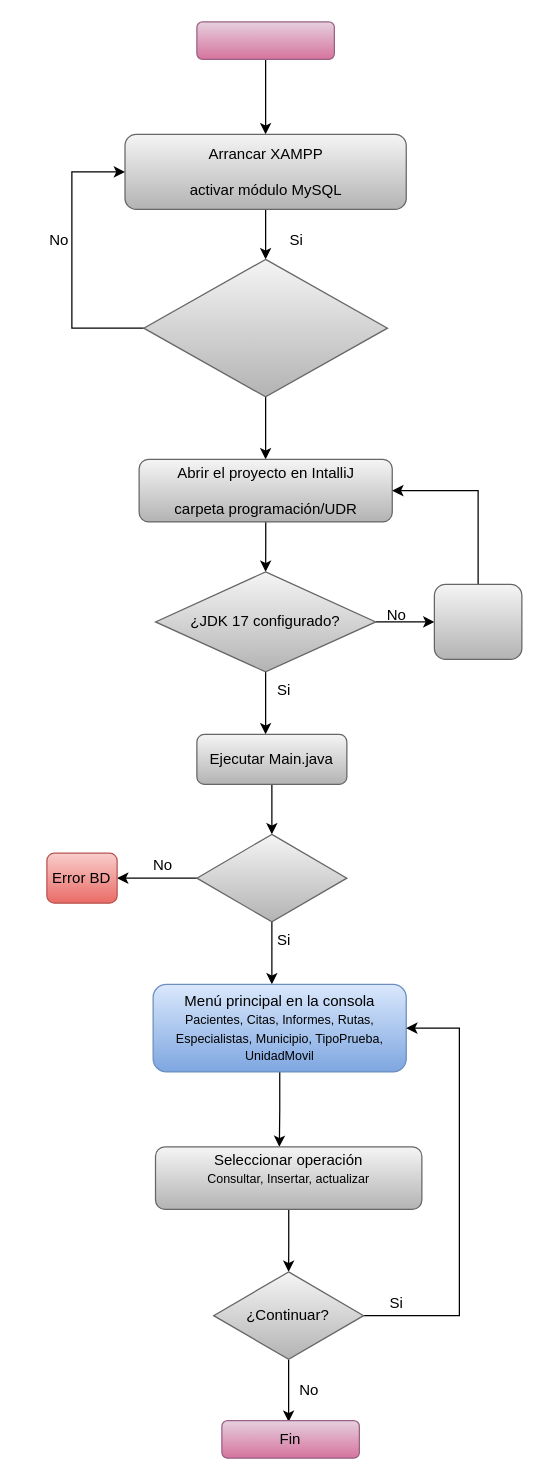
Image size: 544x1480. Some labels were removed from this diagram. The box of each missing label's shape, as (x1, y1, x2, y2) in pixels:
Configurar JDK: (433, 583, 522, 659)
Inicio: (196, 21, 334, 59)
¿Conexión bien?: (196, 833, 347, 922)
¿Está MySQL activo? puerto 3306: (142, 258, 388, 397)
